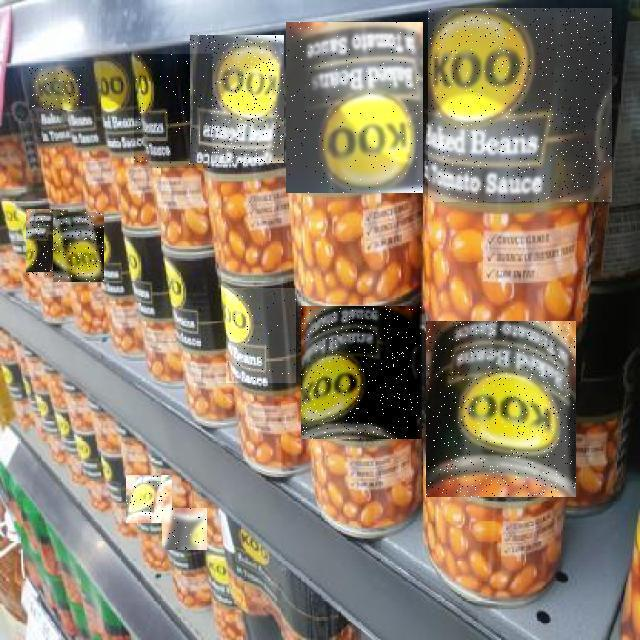Beans: (428, 9, 612, 203), (426, 321, 576, 497), (286, 22, 423, 193), (302, 306, 424, 439), (191, 35, 285, 163), (134, 54, 212, 168), (226, 288, 296, 383), (53, 212, 104, 282), (26, 210, 68, 276), (30, 67, 86, 110), (126, 475, 172, 523), (162, 508, 207, 550)
